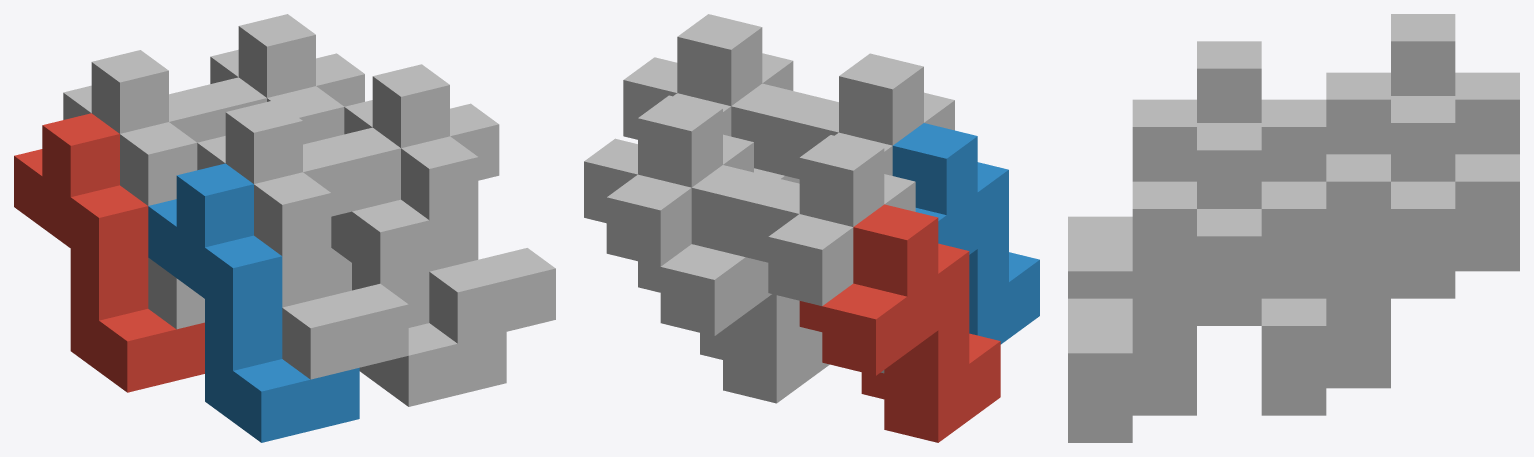
File: tiling.obj
The picture shows the model from 3 angles, left to right: view 1: azimuth 30°, elevation 25°; view 2: azimuth 150°, elevation 25°; view 3: azimuth 270°, elevation 25°; orthographic projection. The views are drawn at different scales.
Visible parts, largest first — view 1: copy_1_domain_2, copy_1_domain_1, copy_1_domain_8, copy_1_domain_4, copy_1_domain_6, copy_1_domain_3, copy_1_domain_7, copy_1_domain_5; view 2: copy_1_domain_1, copy_1_domain_5, copy_1_domain_3, copy_1_domain_7, copy_1_domain_2, copy_1_domain_8, copy_1_domain_4, copy_1_domain_6; view 3: copy_1_domain_8, copy_1_domain_7, copy_1_domain_4, copy_1_domain_3, copy_1_domain_5, copy_1_domain_6.
Boxes of the visible parts, x1,y1,x2,y2 form: copy_1_domain_2: (148, 163, 359, 442); copy_1_domain_1: (14, 113, 204, 392); copy_1_domain_8: (344, 64, 555, 343); copy_1_domain_4: (197, 100, 408, 379); copy_1_domain_6: (324, 127, 506, 406); copy_1_domain_3: (63, 50, 217, 329); copy_1_domain_7: (210, 14, 364, 291); copy_1_domain_5: (190, 77, 351, 295); copy_1_domain_1: (799, 204, 1000, 442); copy_1_domain_5: (638, 165, 829, 403); copy_1_domain_3: (745, 135, 915, 373); copy_1_domain_7: (584, 95, 753, 333); copy_1_domain_2: (892, 123, 1039, 344); copy_1_domain_8: (623, 14, 793, 139); copy_1_domain_4: (785, 53, 954, 179); copy_1_domain_6: (731, 83, 815, 183); copy_1_domain_8: (1068, 123, 1326, 411); copy_1_domain_7: (1261, 96, 1519, 384); copy_1_domain_4: (1068, 41, 1326, 298); copy_1_domain_3: (1326, 14, 1519, 154); copy_1_domain_5: (1261, 240, 1519, 415); copy_1_domain_6: (1068, 267, 1326, 442).
Size of the model in its own units: 7 by 5 by 7.
